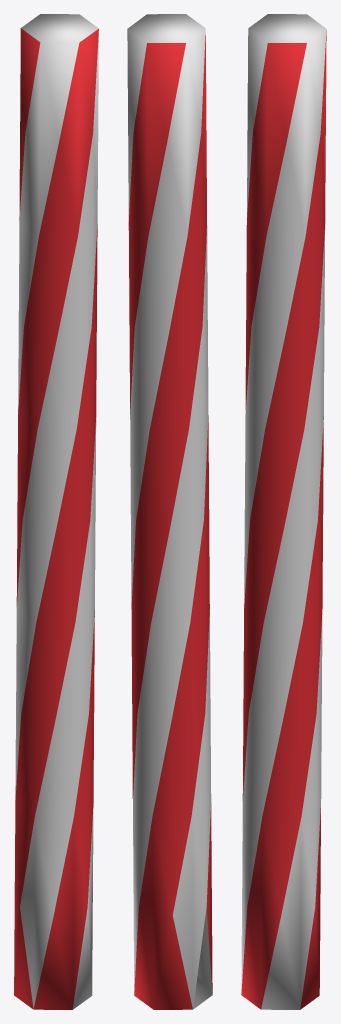
Rendered from Stripping pole.fbx.
3 views of the same model, side by side, from view 1: azimuth 30°, elevation 25°; view 2: azimuth 210°, elevation 25°; view 3: azimuth 330°, elevation 25° (orthographic).
Parts seen in each view (by area): view 1: Stripping pole; view 2: Stripping pole; view 3: Stripping pole.
Boxes of the visible parts, bbox=[...] form: Stripping pole: bbox=[14, 14, 98, 1009]; Stripping pole: bbox=[127, 14, 212, 1009]; Stripping pole: bbox=[241, 14, 326, 1009].
Size of the model in its own units: 38.89 by 491 by 36.
